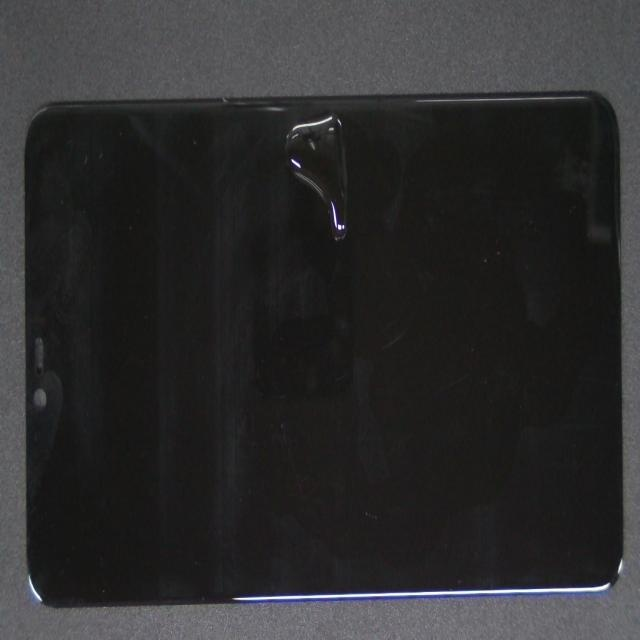oil: (178, 163, 524, 280)
